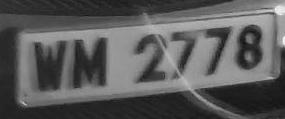2: (127, 29, 171, 88)
7: (198, 23, 233, 79), (166, 26, 200, 82)
8: (234, 17, 267, 75)
M: (67, 34, 115, 96)
W: (28, 35, 73, 98)
